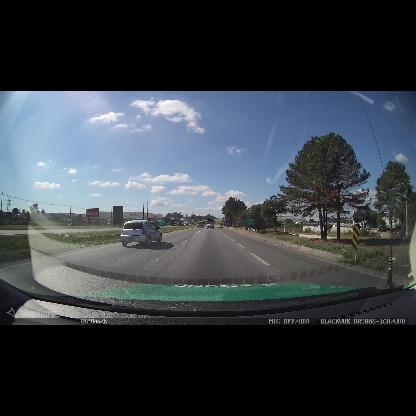O-MP: (351, 223, 360, 250)
